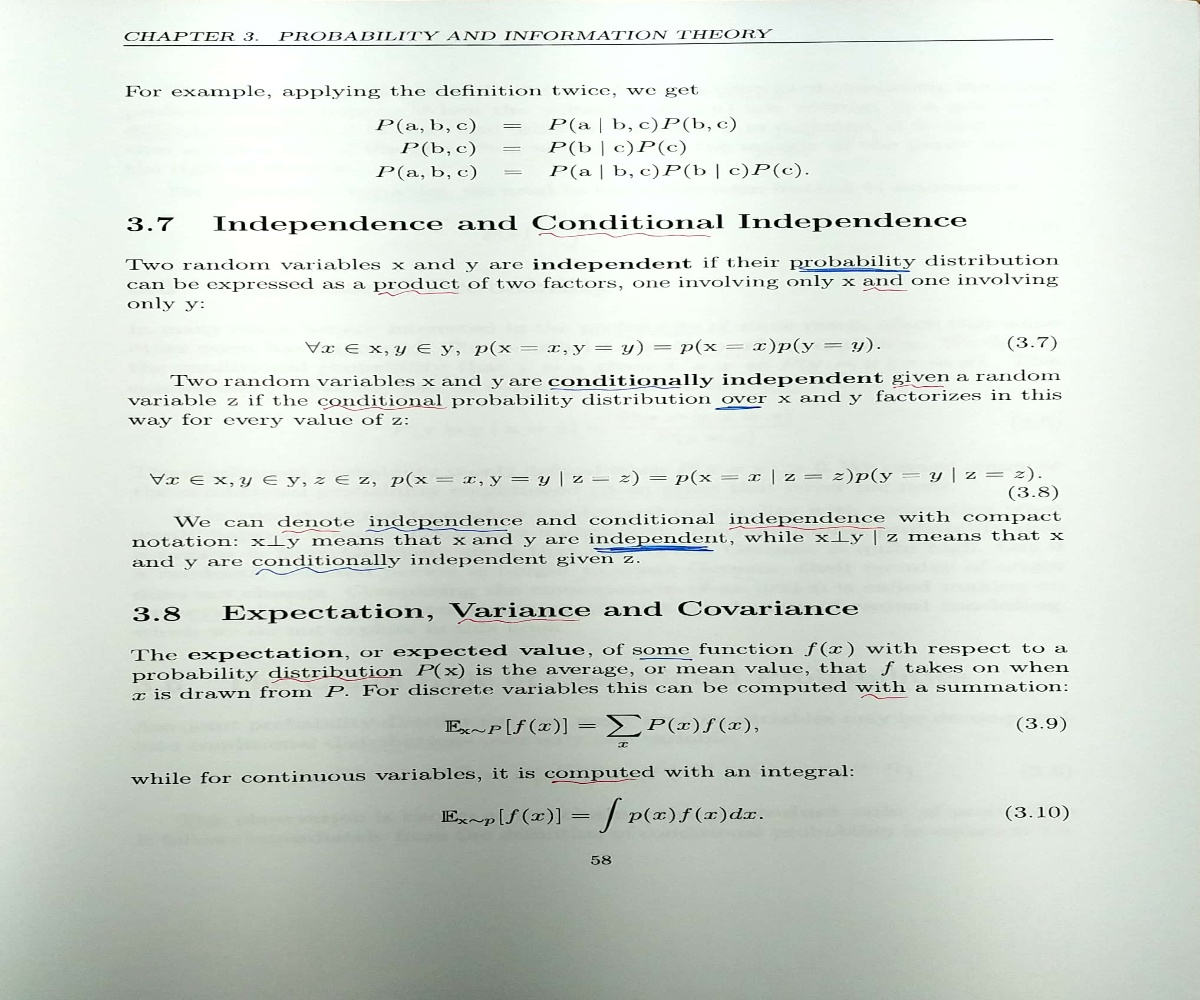underline: (251, 565, 395, 586), (361, 518, 516, 536), (715, 519, 889, 535), (531, 228, 719, 242), (582, 540, 722, 558), (451, 610, 591, 627), (318, 402, 462, 416), (542, 382, 690, 394), (793, 262, 917, 276), (267, 674, 400, 685), (885, 377, 959, 395), (635, 648, 703, 666), (279, 524, 355, 539), (375, 288, 474, 299), (549, 778, 649, 788), (706, 401, 771, 413), (852, 285, 910, 298), (858, 691, 913, 704)
